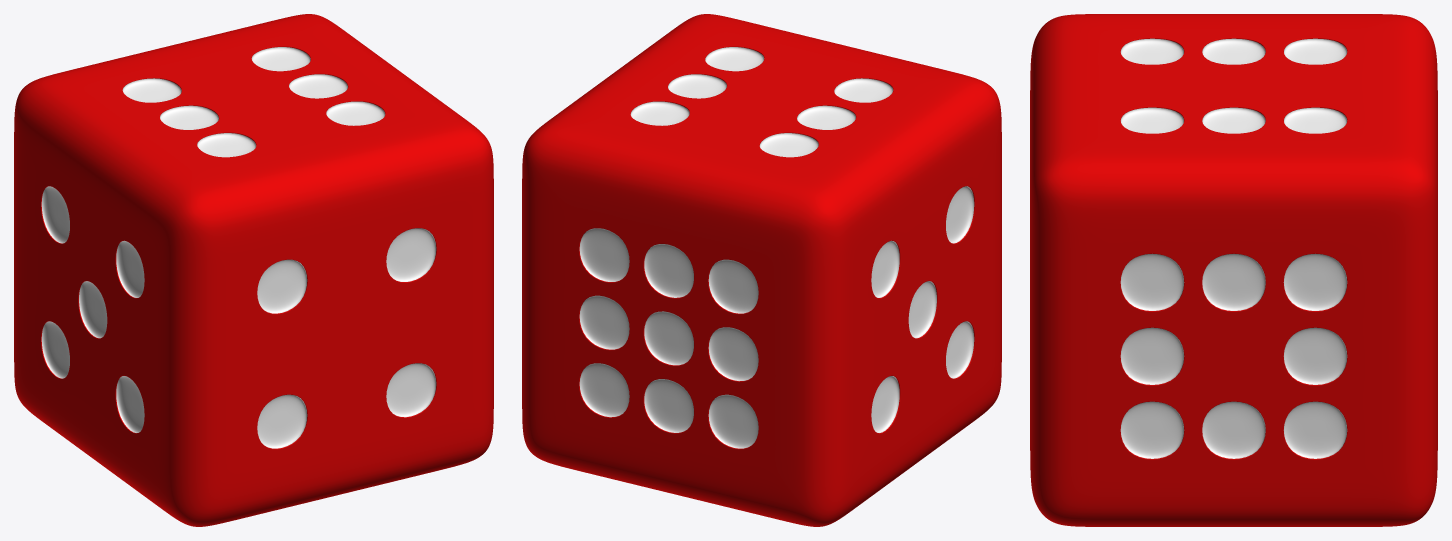
The model's file is Dice3DWith7and8and9.glb.
The picture shows the model from 3 angles, left to right: view 1: azimuth 30°, elevation 25°; view 2: azimuth 150°, elevation 25°; view 3: azimuth 270°, elevation 25°; orthographic projection. The views are drawn at different scales.
Parts seen in each view (by area): view 1: Cube; view 2: Cube; view 3: Cube.
Part boxes in pixels (x1,y1,x2,y2): Cube: (14,14,493,526); Cube: (522,14,1001,526); Cube: (1030,14,1437,526).
Bounding box in the file's own units: 2 × 2 × 2.
